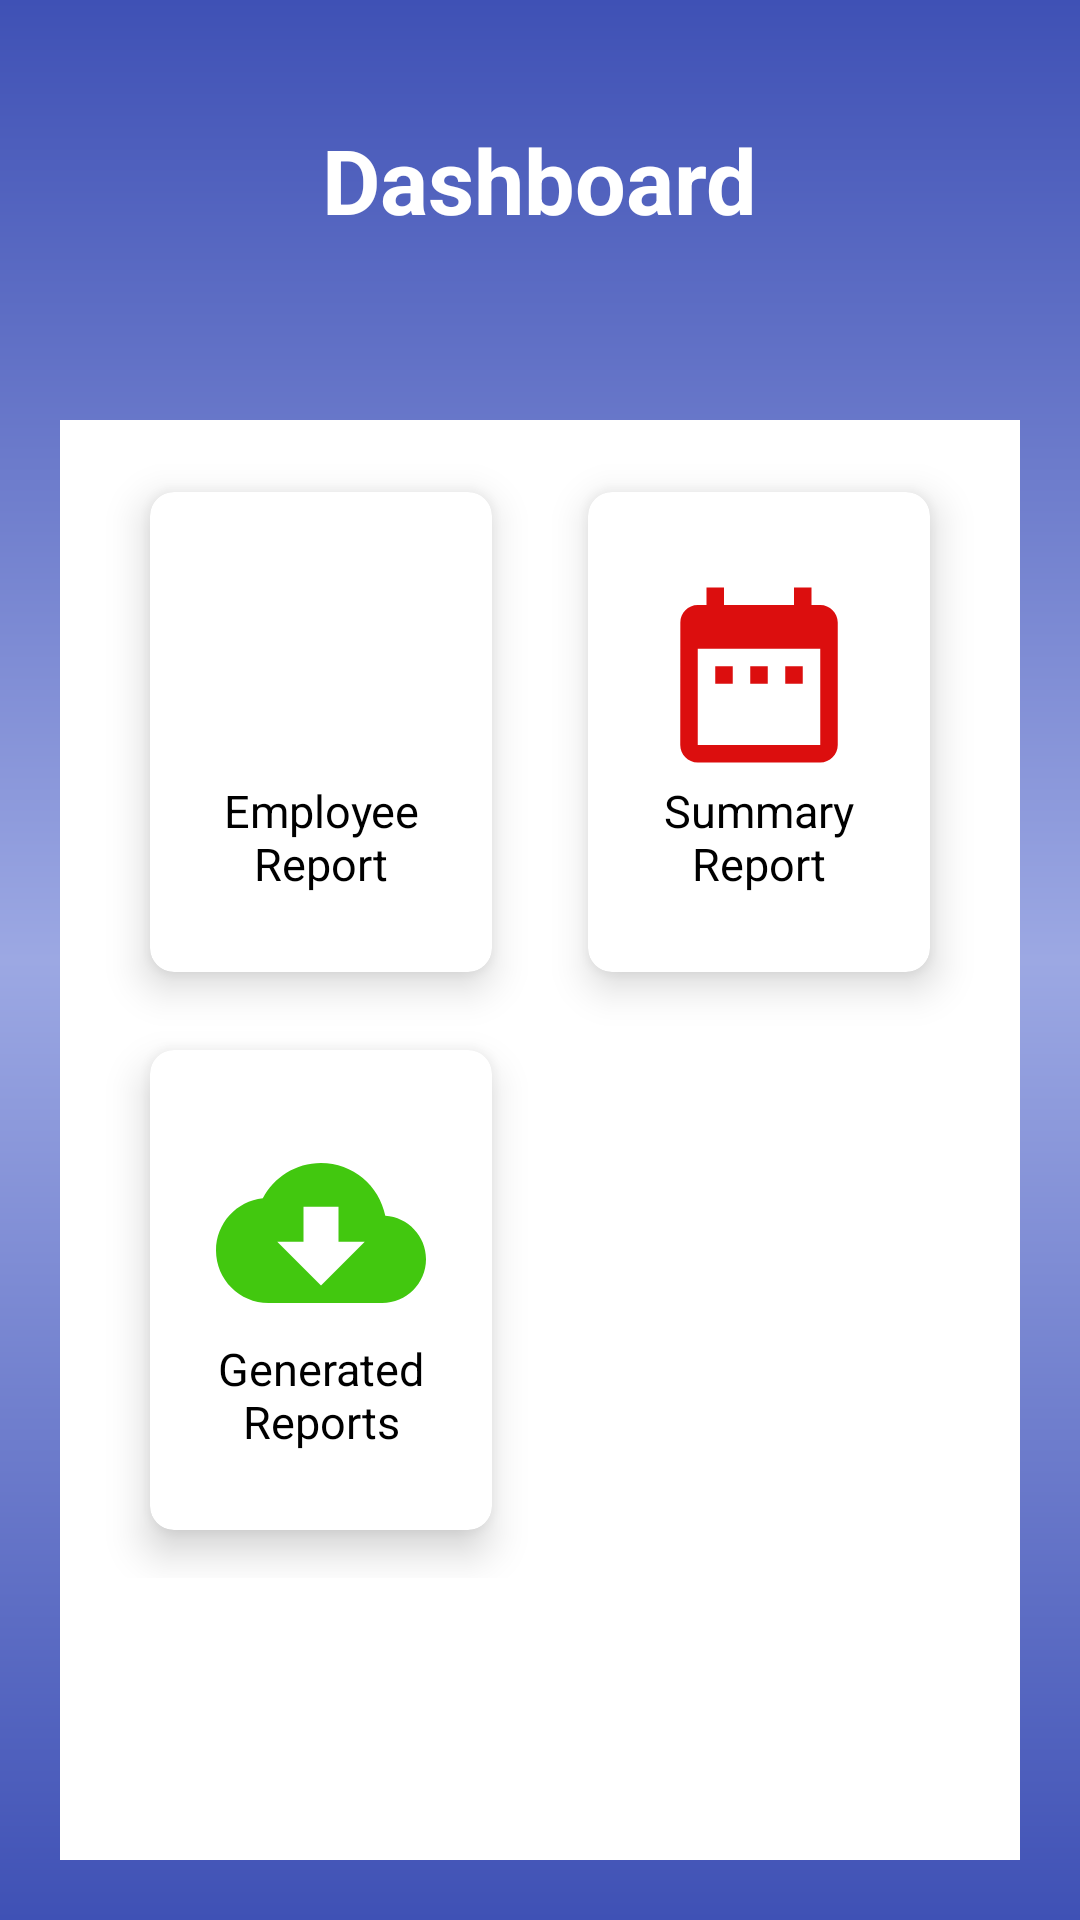

Icons on this 1080*1920 Android screen, each with the point to tap as (x=x, y=y):
calender holidays: (x=759, y=675)
cloud download: (x=321, y=1233)
